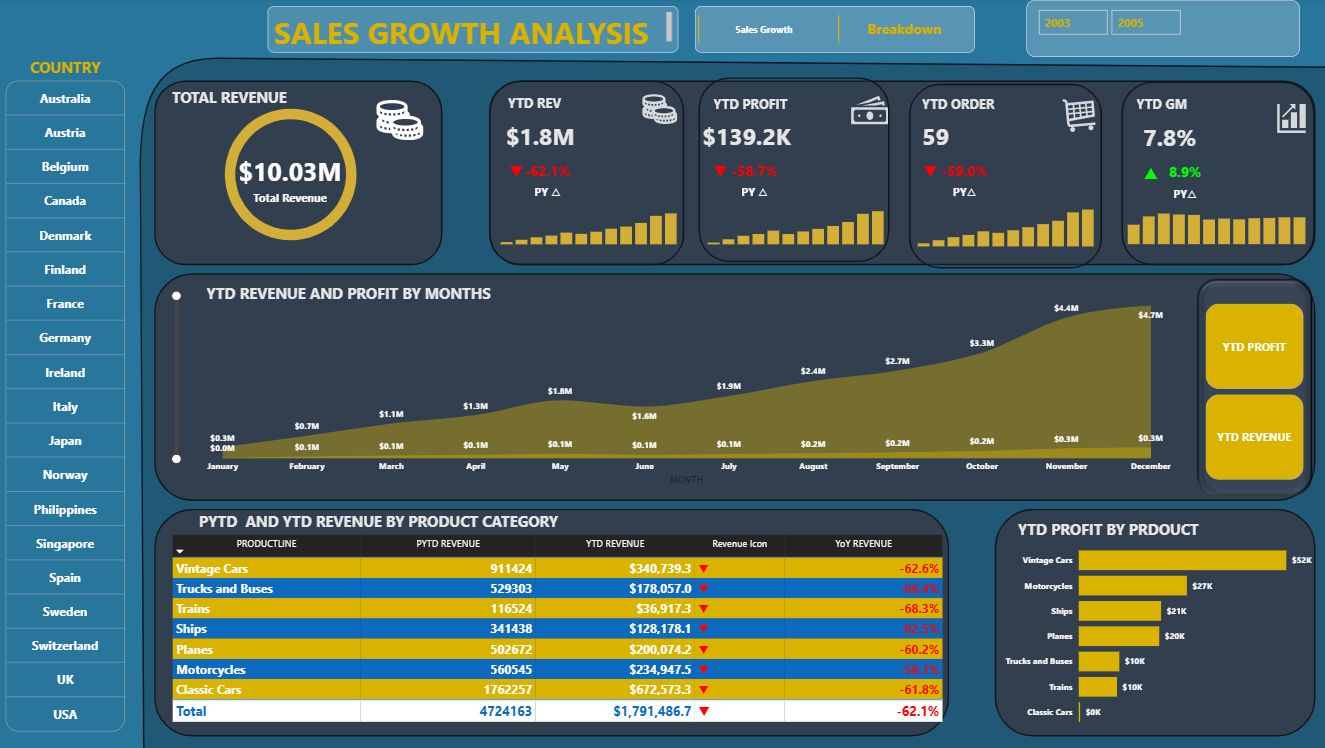

The page's visual inventory and layout, read from the dashboard file:
{"tool":"powerbi","page":{"name":"Sales Growth","canvas":[1920,1080],"ordinal":0},"visuals":[{"type":"card","fields":{"Values":["Dax.Total Revenue"]},"box":[324.5,195.6,210,128.8],"z":0},{"type":"card","fields":{"Values":["Dax.YoY ORDER"]},"box":[1352.4,224.9,88.3,69.2],"z":0,"group":"g3"},{"type":"card","fields":{"Values":["Dax.YoY PROFIT"]},"box":[1052,226,88.3,69.2],"z":0,"group":"g2"},{"type":"card","fields":{"Values":["Dax.YoY GM"]},"box":[1668.2,227.7,88.3,69.2],"z":0,"group":"g4"},{"type":"card","fields":{"Values":["Dax.YTD Sale"]},"box":[718.2,133.6,140.8,131.2],"z":1000},{"type":"card","fields":{"Values":["Dax.Order Icon"]},"box":[1321.4,225.7,50.1,50.1],"z":1000,"group":"g3"},{"type":"card","fields":{"Values":["Dax.Profit Icon"]},"box":[1021,226.8,50.1,50.1],"z":1000,"group":"g2"},{"type":"card","fields":{"Values":["Dax.GM Icon"]},"box":[1637.2,228.5,50.1,50.1],"z":1000,"group":"g4"},{"type":"card","fields":{"Values":["Dax.YTD PROFIT"]},"box":[1010,145,147.5,110],"z":2000},{"type":"card","fields":{"Values":["Dax.YoY Sale"]},"box":[755.4,226.7,88.3,69.2],"z":3000,"group":"g1"},{"type":"columnChart","fields":{"Category":["Calendar.MONTH"],"Y":["Dax.YTD Sale"]},"box":[725.3,283.9,262.5,76.3],"z":3000},{"type":"donutChart","fields":{"Y":["Dax.Total Revenue"]},"box":[241,131.2,379.4,245.7],"z":4000},{"type":"textbox","box":[737.5,132.5,112.5,45],"z":5000},{"type":"textbox","box":[1030.7,136,145.5,42.9],"z":6000},{"type":"textbox","box":[1329,136,114.5,42.9],"z":7000},{"type":"textbox","box":[1636.7,136,114.5,42.9],"z":8000},{"type":"card","fields":{"Values":["Dax.YTD ORDER"]},"box":[1280,145,147.5,110],"z":9000},{"type":"card","fields":{"Values":["Dax.YTD GM"]},"box":[1615.3,145.5,147.9,109.8],"z":10000},{"type":"columnChart","fields":{"Category":["Calendar.MONTH"],"Y":["Dax.YTD PROFIT"]},"box":[1023.6,283.9,262.5,76.3],"z":11000},{"type":"columnChart","fields":{"Category":["Calendar.MONTH"],"Y":["Dax.YTD ORDER"]},"box":[1322.5,287.5,262.5,75],"z":12000},{"type":"columnChart","fields":{"Category":["Calendar.MONTH"],"Y":["Dax.YTD GM"]},"box":[1624.8,286.3,264.8,74],"z":13000},{"type":"advancedSlicerVisual","fields":{"Values":["Dim_Customer.COUNTRY"]},"box":[16.7,85.9,181.3,985.4],"z":14000},{"type":"group","id":"g1","title":"Group 1","box":[729.2,226.7,114.5,69.2],"z":15000},{"type":"group","id":"g2","title":"Group 2","box":[1021,226,119.3,69.2],"z":16000},{"type":"group","id":"g3","title":"Group 2","box":[1321.4,224.9,119.3,69.2],"z":17000},{"type":"group","id":"g4","title":"Group 2","box":[1637.2,227.7,119.3,69.2],"z":18000},{"type":"areaChart","fields":{"Y":["Dax.YTD PROFIT","Dax.YTD REVENUE"],"Category":["Calendar.MONTH"]},"box":[255.3,415.1,1460.2,288.7],"z":19000},{"type":"tableEx","fields":{"Values":["Dim_Product.PRODUCTLINE","Dax.PYTD sales","Dax.YTD REVENUE","Dax.Revenue Icon","Dax.YoY REVENUE"]},"box":[255.3,765.9,1114.2,293.5],"z":20000},{"type":"card","fields":{"Values":["Dax.Revenue Icon"]},"box":[729.2,226.7,50.1,50.1],"z":20003,"group":"g1"},{"type":"barChart","fields":{"Category":["Dim_Product.PRODUCTLINE"],"Y":["Dax.YTD PROFIT"]},"box":[1448.3,765.9,450.9,293.5],"z":21000},{"type":"advancedSlicerVisual","fields":{"Values":["Rev/Prof.Rev/Prof"]},"box":[1736.9,434.2,150.3,262.5],"z":22000},{"type":"textbox","box":[255.3,121.7,250.5,69.2],"z":23000},{"type":"textbox","box":[305.4,403.2,422.3,69.2],"z":24000},{"type":"textbox","box":[293.5,730.1,582.2,69.2],"z":25000},{"type":"textbox","box":[1467.3,742,422.3,69.2],"z":26000},{"type":"textbox","box":[397.5,12.9,588.7,66.6],"z":27000},{"type":"slicer","fields":{"Values":["Calendar.YEAR"]},"box":[1484.7,4.3,391,81.6],"z":28000},{"type":"pageNavigator","box":[1009.2,11.9,400.8,66.8],"z":29000}]}

Visuals, with their boxes in screenshot pixels (x1, y1, x2, y2), scaled from the page's 1920x1080 canvas onto the 1325x748 screenshot:
card - Dax.Total Revenue: detection(224, 135, 369, 225)
card - Dax.YoY ORDER: detection(933, 156, 994, 204)
card - Dax.YoY PROFIT: detection(726, 157, 787, 204)
card - Dax.YoY GM: detection(1151, 158, 1212, 206)
card - Dax.YTD Sale: detection(496, 93, 593, 183)
card - Dax.Order Icon: detection(912, 156, 946, 191)
card - Dax.Profit Icon: detection(705, 157, 739, 192)
card - Dax.GM Icon: detection(1130, 158, 1164, 193)
card - Dax.YTD PROFIT: detection(697, 100, 799, 177)
card - Dax.YoY Sale: detection(521, 157, 582, 205)
columnChart - Calendar.MONTH x Dax.YTD Sale: detection(501, 197, 682, 249)
donutChart - Dax.Total Revenue: detection(166, 91, 428, 261)
textbox: detection(509, 92, 587, 123)
textbox: detection(711, 94, 812, 124)
textbox: detection(917, 94, 996, 124)
textbox: detection(1129, 94, 1209, 124)
card - Dax.YTD ORDER: detection(883, 100, 985, 177)
card - Dax.YTD GM: detection(1115, 101, 1217, 177)
columnChart - Calendar.MONTH x Dax.YTD PROFIT: detection(706, 197, 888, 249)
columnChart - Calendar.MONTH x Dax.YTD ORDER: detection(913, 199, 1094, 251)
columnChart - Calendar.MONTH x Dax.YTD GM: detection(1121, 198, 1304, 250)
advancedSlicerVisual - Dim_Customer.COUNTRY: detection(12, 59, 137, 742)
"Group 1" group: detection(503, 157, 582, 205)
"Group 2" group: detection(705, 157, 787, 204)
"Group 2" group: detection(912, 156, 994, 204)
"Group 2" group: detection(1130, 158, 1212, 206)
areaChart - Dax.YTD PROFIT x Dax.YTD REVENUE: detection(176, 287, 1184, 487)
tableEx - Dim_Product.PRODUCTLINE x Dax.PYTD sales: detection(176, 530, 945, 734)
card - Dax.Revenue Icon: detection(503, 157, 538, 192)
barChart - Dim_Product.PRODUCTLINE x Dax.YTD PROFIT: detection(999, 530, 1311, 734)
advancedSlicerVisual - Rev/Prof.Rev/Prof: detection(1199, 301, 1302, 483)
textbox: detection(176, 84, 349, 132)
textbox: detection(211, 279, 502, 327)
textbox: detection(203, 506, 604, 554)
textbox: detection(1013, 514, 1304, 562)
textbox: detection(274, 9, 681, 55)
slicer - Calendar.YEAR: detection(1025, 3, 1294, 59)
pageNavigator: detection(696, 8, 973, 55)
